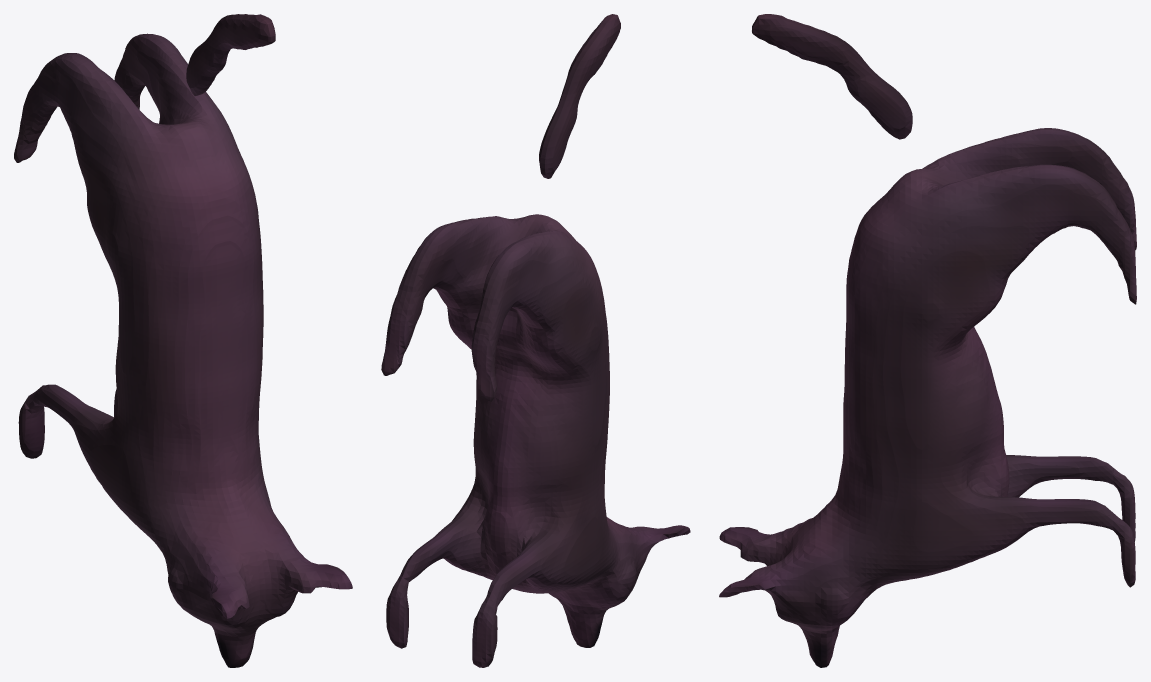
File: cat.obj
3 views of the same model, side by side, from view 1: azimuth 30°, elevation 25°; view 2: azimuth 150°, elevation 25°; view 3: azimuth 270°, elevation 25° (orthographic). The views are drawn at different scales.
Size of the model in its own units: 0.422 by 1.98 by 1.15.
